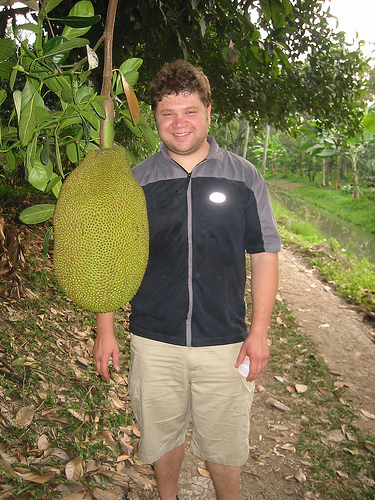jackfruit: (50, 142, 151, 316)
